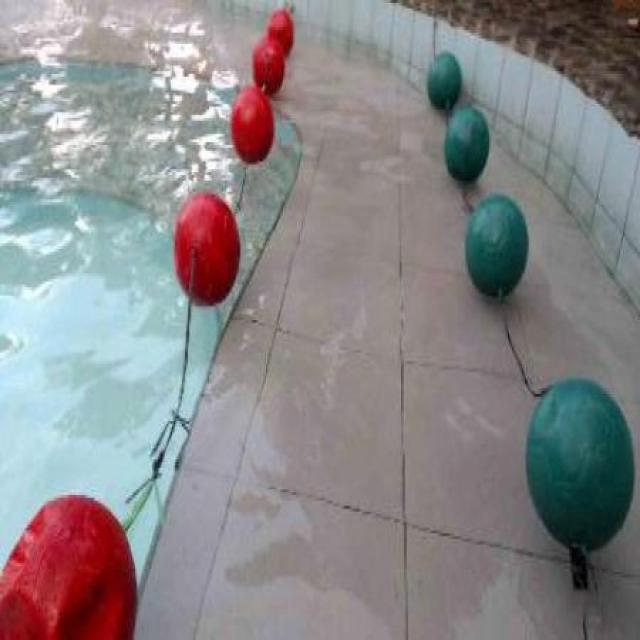buoy: (0, 495, 138, 637), (525, 374, 636, 550), (172, 192, 240, 306), (464, 194, 527, 298), (228, 82, 274, 164), (443, 106, 490, 184), (250, 35, 284, 96), (425, 52, 461, 107), (266, 5, 294, 60)
